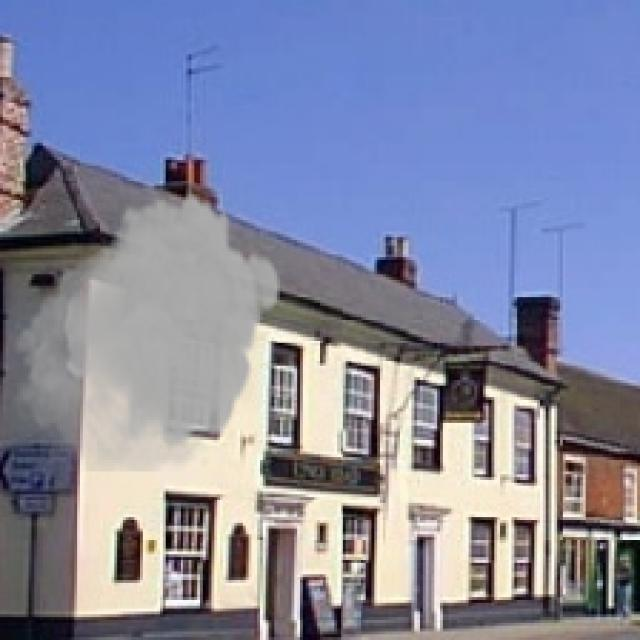Smoke: (6, 188, 283, 472)
